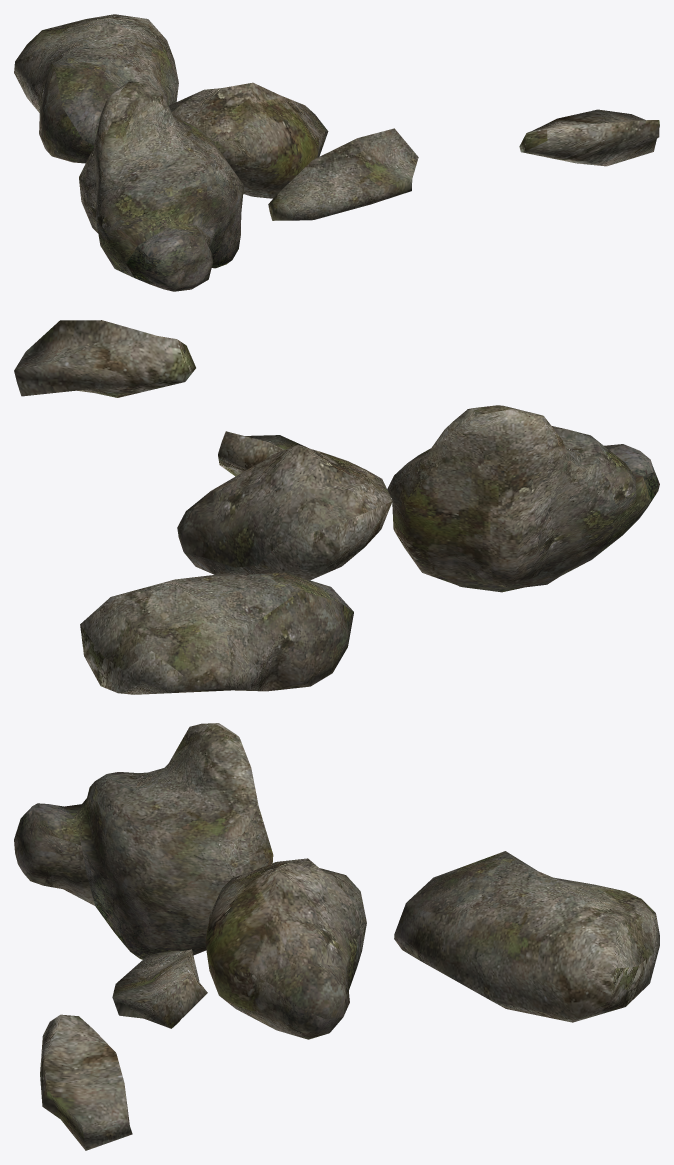
File: stone_09.FBX
3 views of the same model, one above another, from view 1: azimuth 30°, elevation 25°; view 2: azimuth 150°, elevation 25°; view 3: azimuth 270°, elevation 25° (orthographic). The views are drawn at different scales.
Visible parts, largest first — view 1: stone_09_02; view 2: stone_09_02; view 3: stone_09_02.
Boxes of the visible parts, x1,y1,x2,y2 form: stone_09_02: [14, 14, 659, 291]; stone_09_02: [14, 320, 659, 694]; stone_09_02: [14, 723, 659, 1150].
Size of the model in its own units: 3.08 by 0.934 by 2.75.
